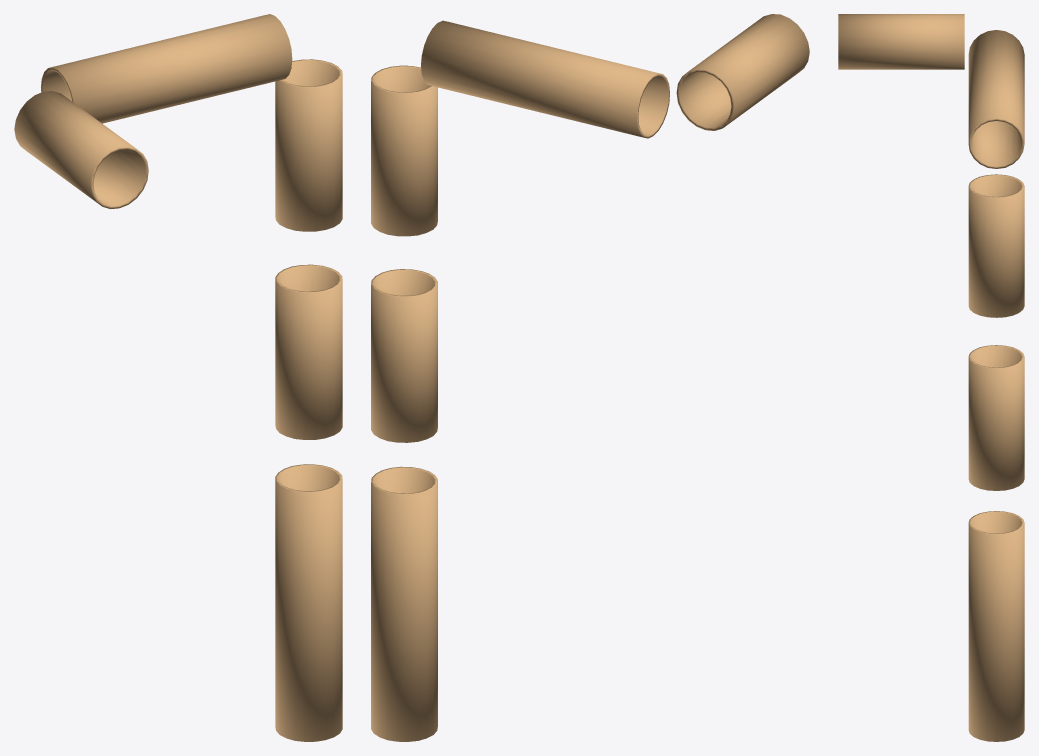
Rendered from slab_pipes_supply__plumbing__27f2cc3c.glb.
3 views of the same model, side by side, from view 1: azimuth 30°, elevation 25°; view 2: azimuth 150°, elevation 25°; view 3: azimuth 270°, elevation 25° (orthographic). The views are drawn at different scales.
Visible parts, largest first — view 1: pipe_supply_manifold_feed__copper.901; view 2: pipe_supply_manifold_feed__copper.901; view 3: pipe_supply_manifold_feed__copper.901.
Boxes of the visible parts, x1=… form: pipe_supply_manifold_feed__copper.901: x1=14, y1=14, x2=342, y2=741; pipe_supply_manifold_feed__copper.901: x1=371, y1=14, x2=809, y2=741; pipe_supply_manifold_feed__copper.901: x1=838, y1=14, x2=1024, y2=741.
Bounding box in the file's own units: 0.1302 × 0.2611 × 0.0737.
